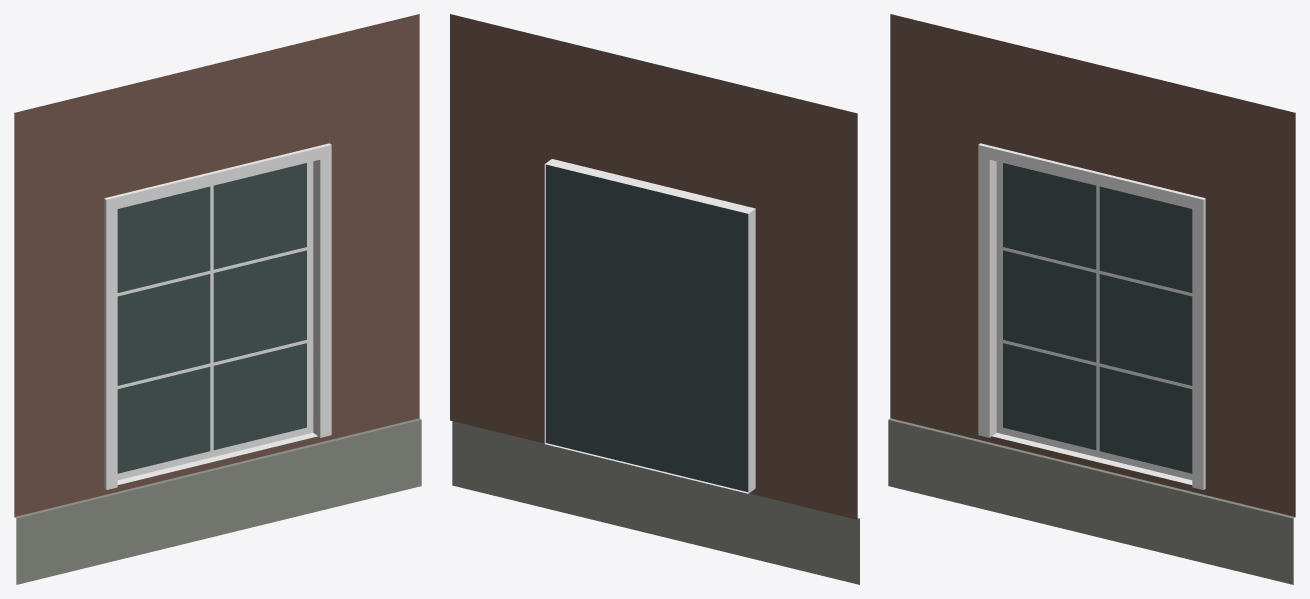
3 views of the same model, side by side, from view 1: azimuth 30°, elevation 25°; view 2: azimuth 150°, elevation 25°; view 3: azimuth 330°, elevation 25° (orthographic).
Parts seen in each view (by area): view 1: a2000s2/800/base-w3; view 2: a2000s2/800/base-w3; view 3: a2000s2/800/base-w3.
Boxes of the visible parts, <box> form: a2000s2/800/base-w3: <box>14,14,421,584</box>; a2000s2/800/base-w3: <box>450,14,859,584</box>; a2000s2/800/base-w3: <box>888,14,1295,584</box>.
Size of the model in its own units: 3.2 by 3.55 by 0.13.
